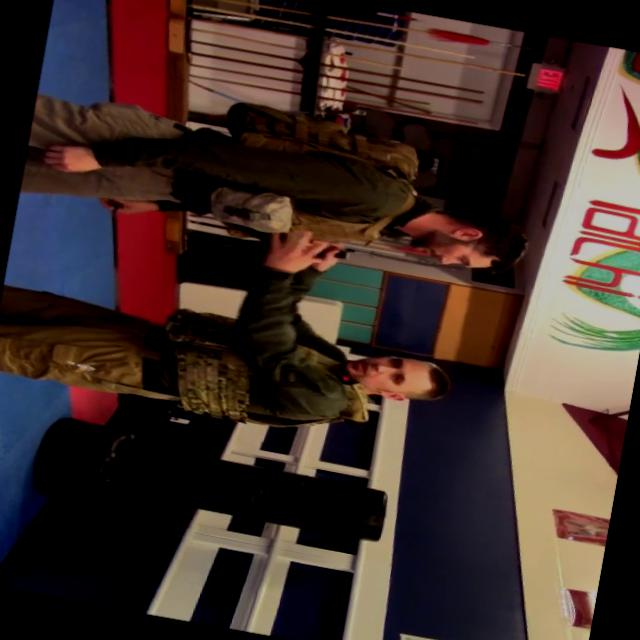knife: (205, 216, 388, 277)
